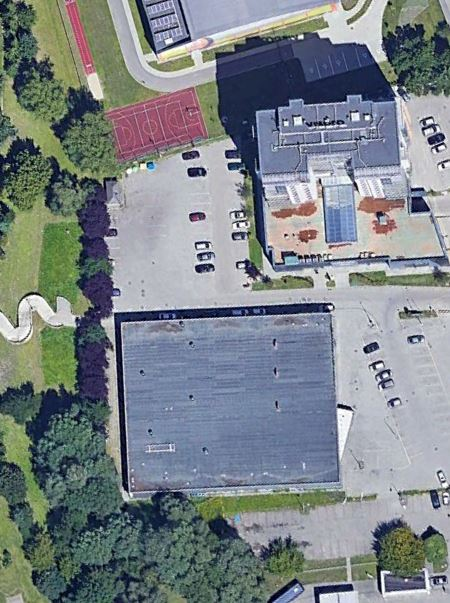block of flats: (255, 93, 411, 216)
shopping_center: (117, 301, 342, 508)
